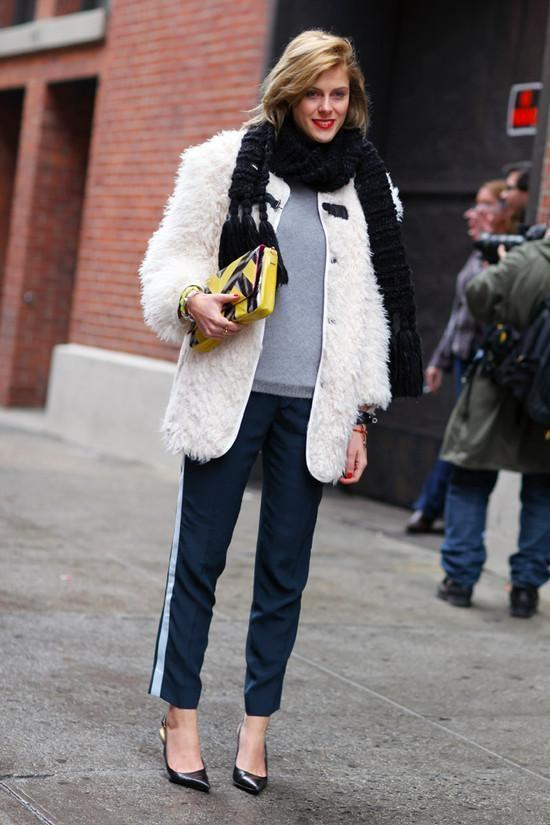pants: (146, 392, 330, 718)
sweater: (138, 121, 390, 484)
